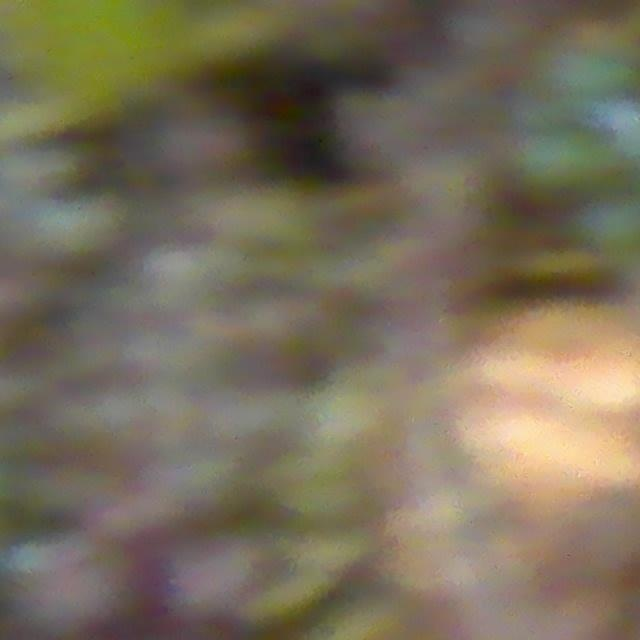SeaGrape: (518, 122, 607, 197), (582, 189, 640, 263)
